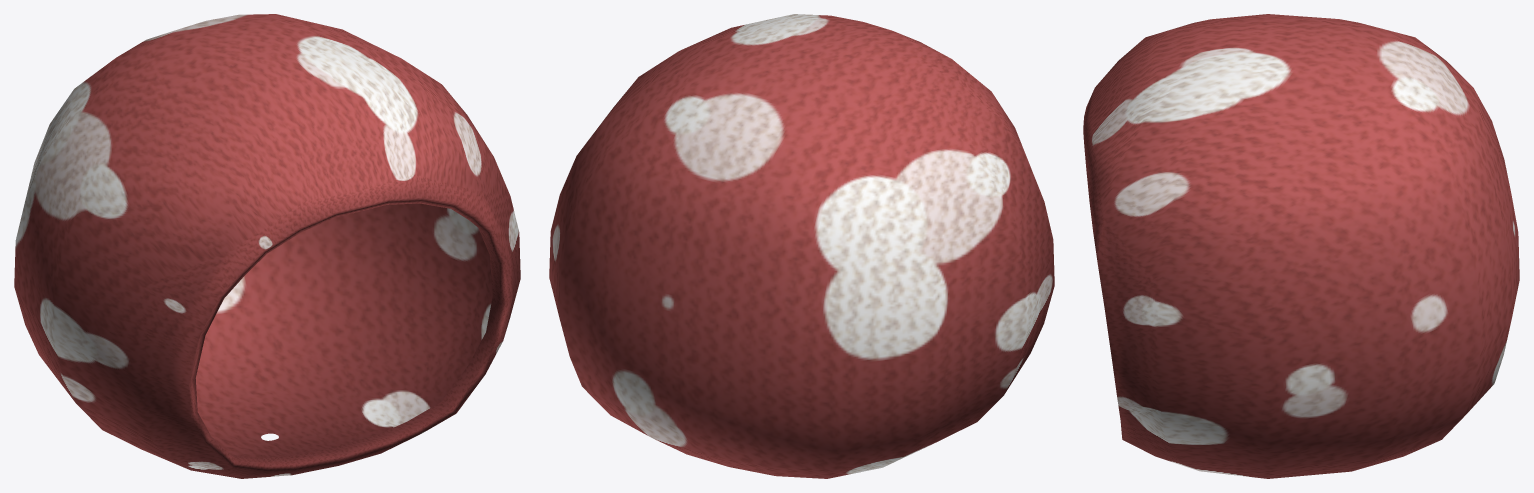
File: SM_HatA.FBX
3 views of the same model, side by side, from view 1: azimuth 30°, elevation 25°; view 2: azimuth 150°, elevation 25°; view 3: azimuth 270°, elevation 25° (orthographic). The views are drawn at different scales.
Visible parts, largest first — view 1: SM_HatA; view 2: SM_HatA; view 3: SM_HatA.
Part boxes in pixels (left/top/right/bottom): SM_HatA: left=14, top=14, right=520, bottom=478; SM_HatA: left=549, top=14, right=1054, bottom=478; SM_HatA: left=1083, top=14, right=1519, bottom=478.
Size of the model in its own units: 119 by 101 by 101.
